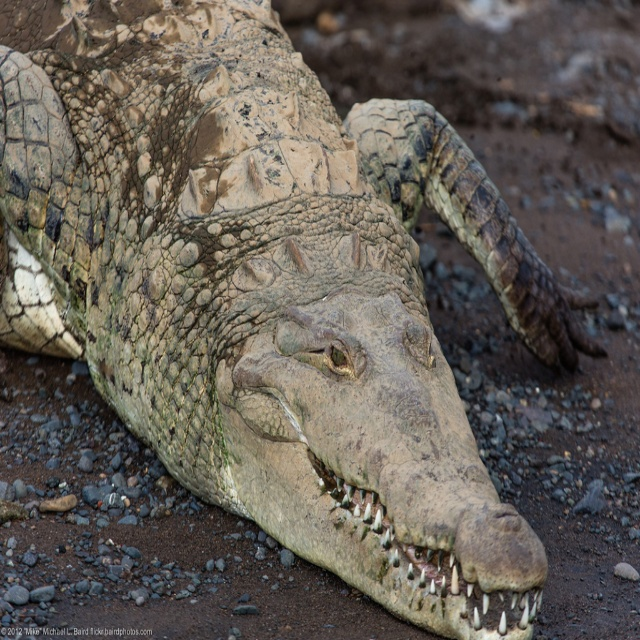Crocodile: (0, 0, 607, 639)
